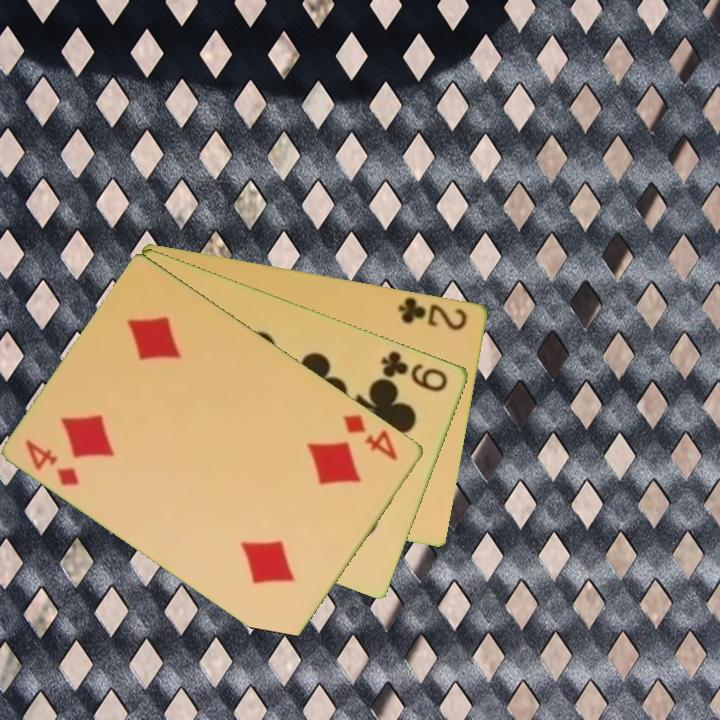2c: (395, 293, 471, 333)
4d: (339, 410, 401, 464), (21, 436, 83, 489)
9c: (378, 347, 451, 395)
